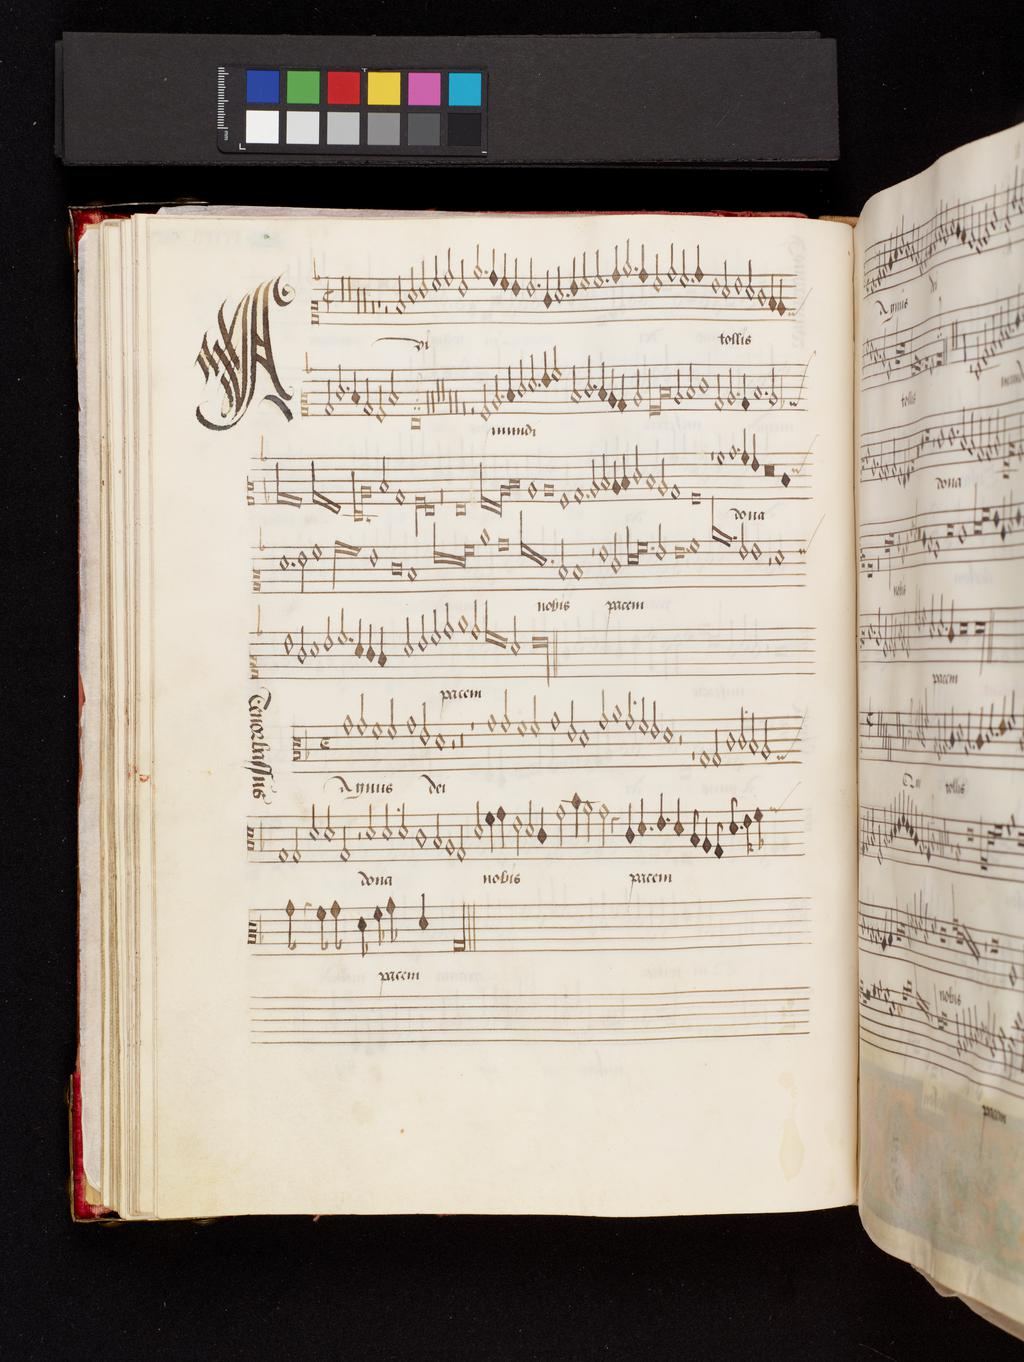barline: (463, 895, 479, 960)
c clef_7: (245, 908, 260, 956)
flat_8: (257, 910, 267, 949)
fusa rest: (298, 894, 314, 960)
fusa_3: (281, 892, 299, 956), (328, 890, 345, 956), (383, 889, 401, 947)
fusa_4: (314, 897, 331, 957), (371, 894, 388, 950)
fusa_6: (354, 909, 370, 965)
longa_10: (447, 893, 468, 959)
semiminim_6: (415, 889, 431, 937)
